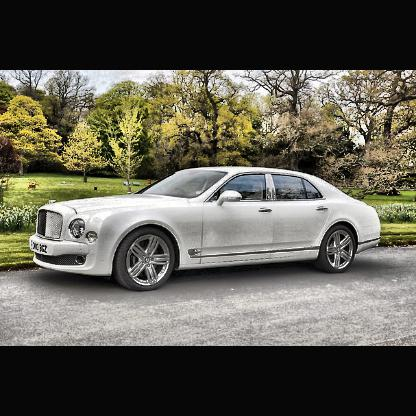Bentley Mulsanne Sedan 2011: (29, 166, 383, 292)
